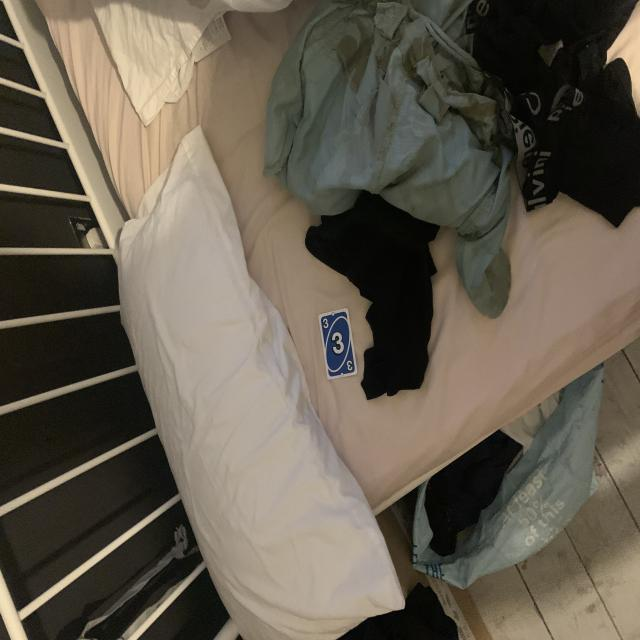lblue-3: (320, 316, 331, 331)
